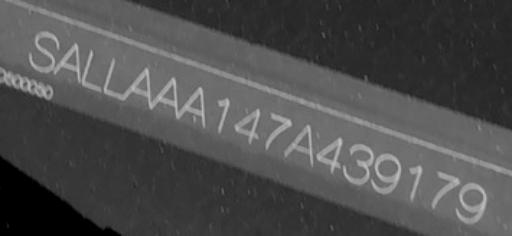letter: (342, 138, 376, 187), (452, 180, 488, 224), (282, 123, 316, 169), (26, 28, 60, 73), (50, 39, 84, 84), (369, 152, 403, 195), (177, 84, 207, 130), (428, 168, 460, 211), (122, 65, 152, 109), (314, 133, 346, 174), (150, 74, 178, 120), (232, 105, 264, 145), (262, 110, 294, 150), (79, 49, 103, 94), (102, 56, 124, 103), (405, 161, 425, 202), (214, 96, 232, 132)
